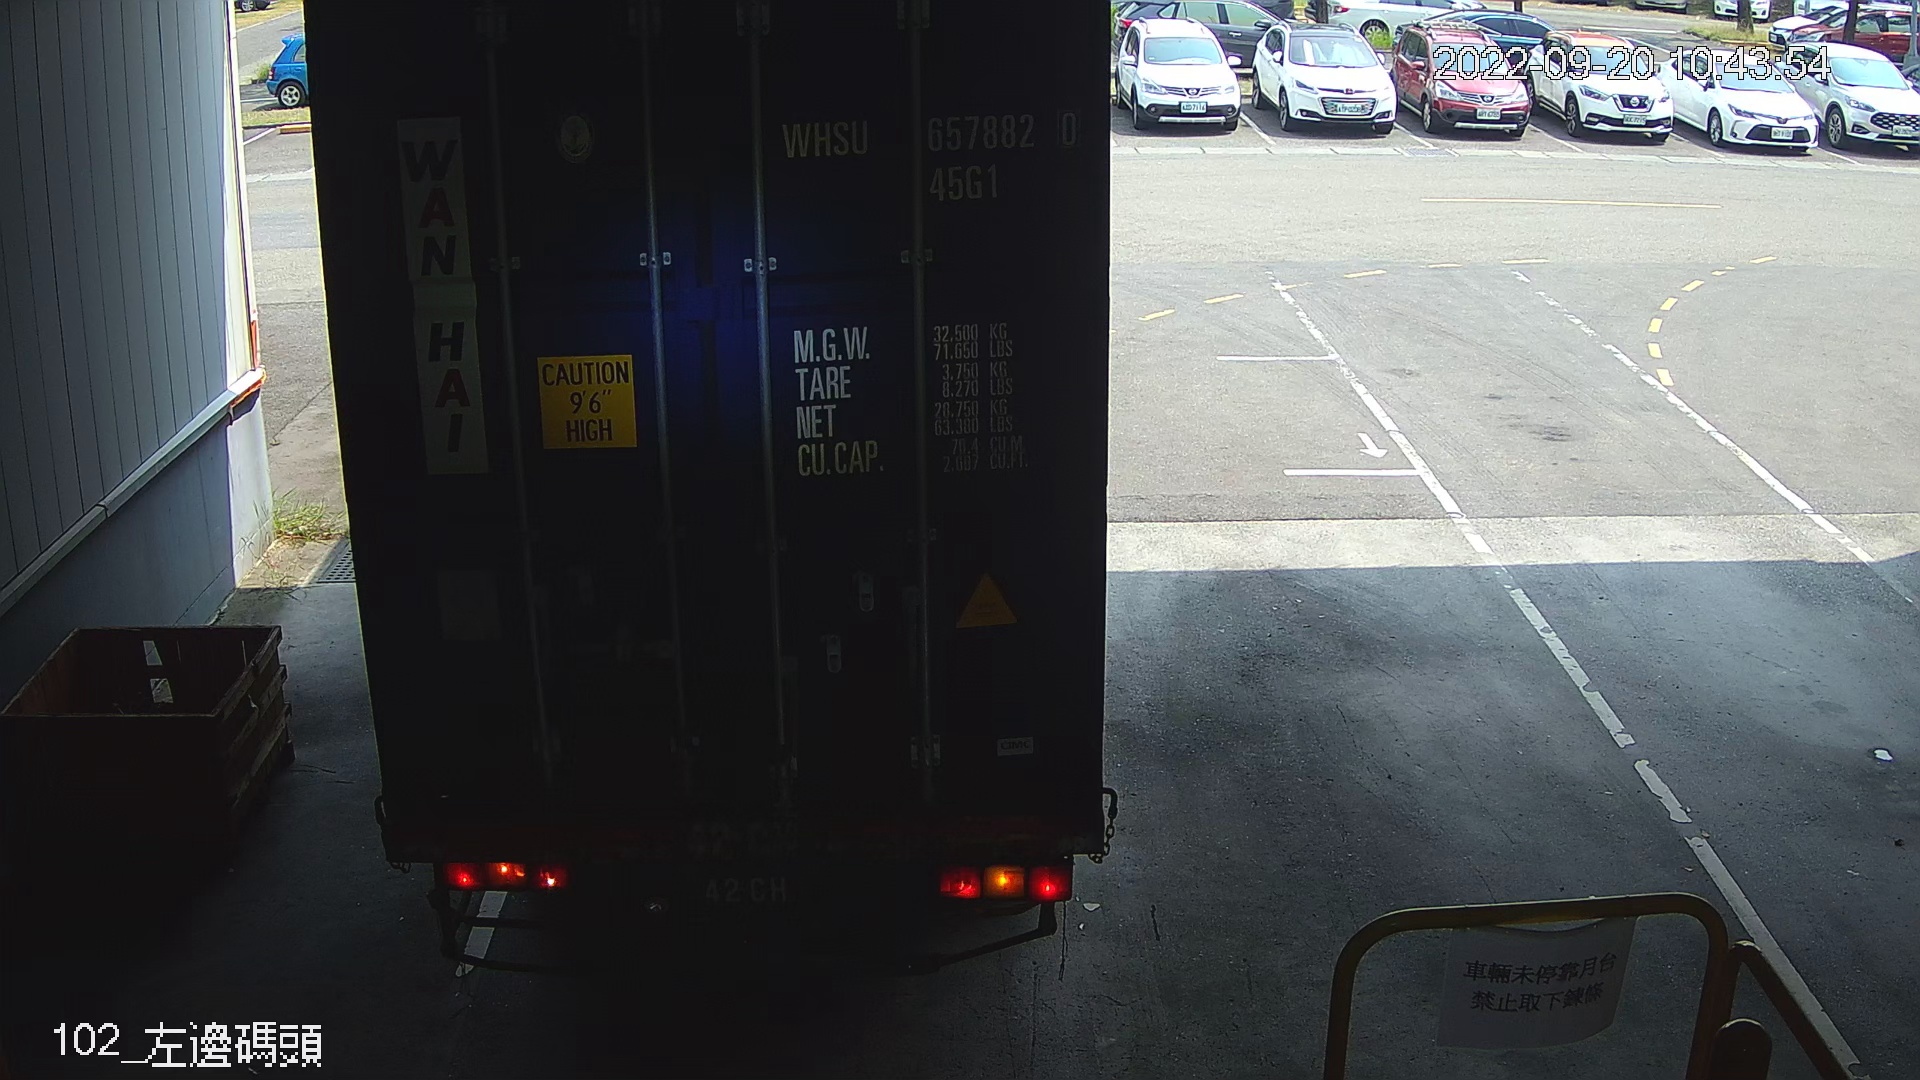container: (769, 105, 1087, 214)
